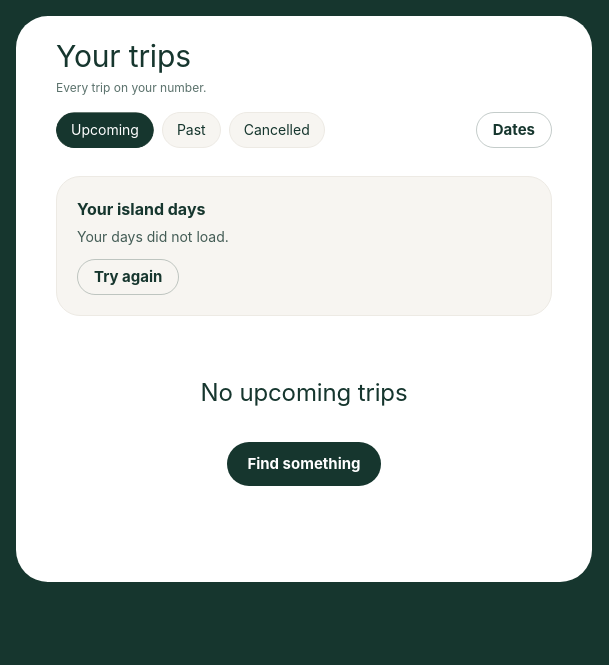
Test: your island days › says when the account did not load, and asks again
Check: the text "Your days did not load." is shown, box [77,228,229,245]
Click the button "Try again" at (128, 277), box [77,259,179,295]
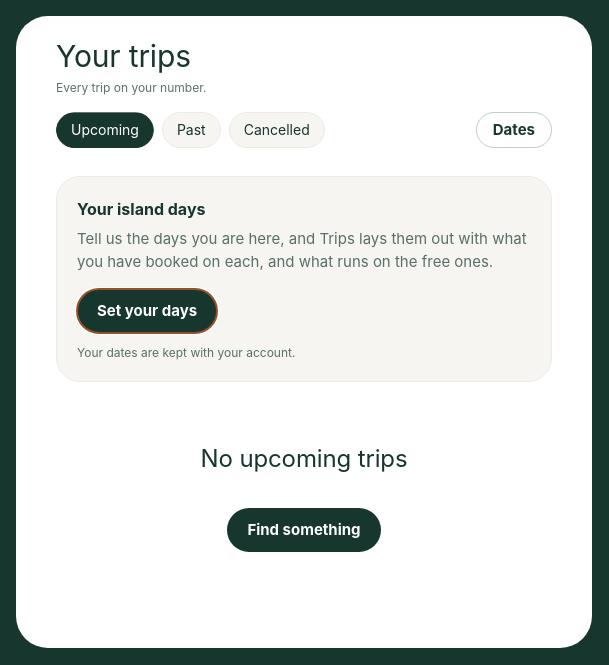
Check: the button "Set your days" is shown, box [77,289,217,333]
